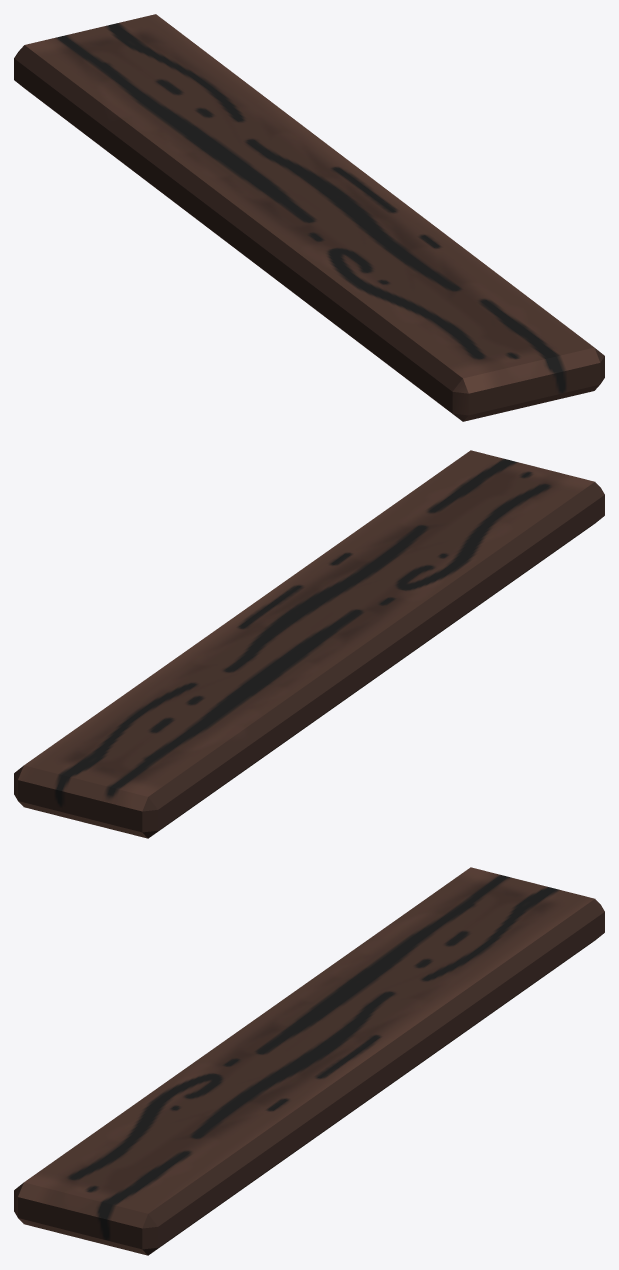
Rendered from maderitamesh.fbx.
3 views of the same model, one above another, from view 1: azimuth 30°, elevation 25°; view 2: azimuth 150°, elevation 25°; view 3: azimuth 330°, elevation 25° (orthographic). The views are drawn at different scales.
Parts seen in each view (by area): view 1: Maderas; view 2: Maderas; view 3: Maderas.
Part boxes in pixels (box(x1,y1,x2,y2)): Maderas: box(14, 14, 604, 421); Maderas: box(14, 450, 604, 838); Maderas: box(14, 867, 604, 1255).
Size of the model in its own units: 271 by 68.79 by 1333.
